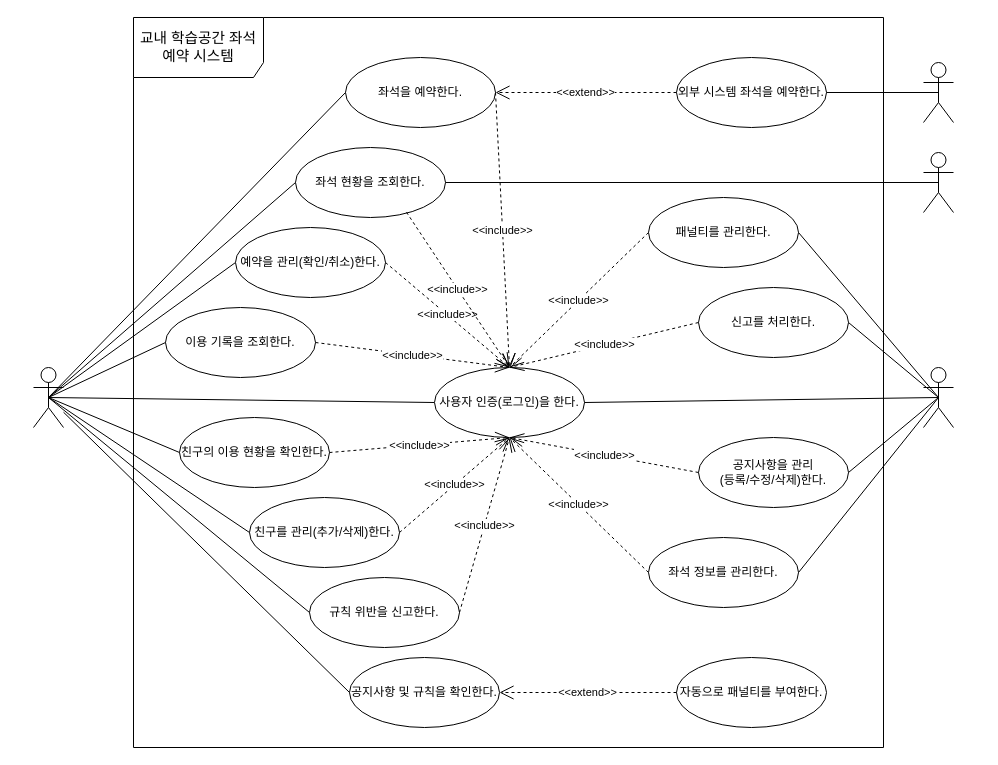
Some shapes in this 998 by 765 pixel diagram are drawn without their labels. The shapes that lost their labels are listed below. From the top down, each one's box as (x1, y1, x2, y2) in pixels, then its label:
(922, 62, 954, 122): 외부 예약 시스템
(922, 152, 954, 212): 센서 시스템
(32, 366, 64, 428): 학생(사용자)
(922, 366, 954, 428): 관리자
